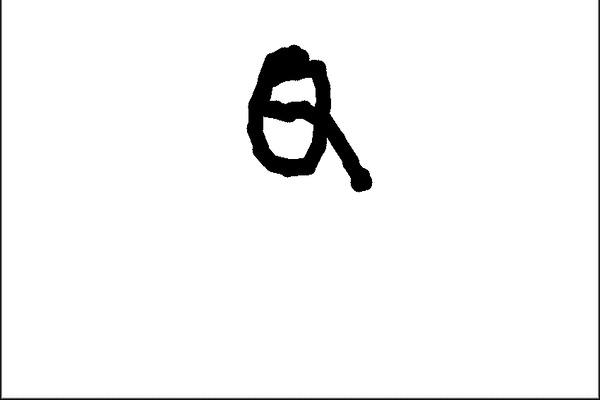Q: (233, 38, 377, 204)
